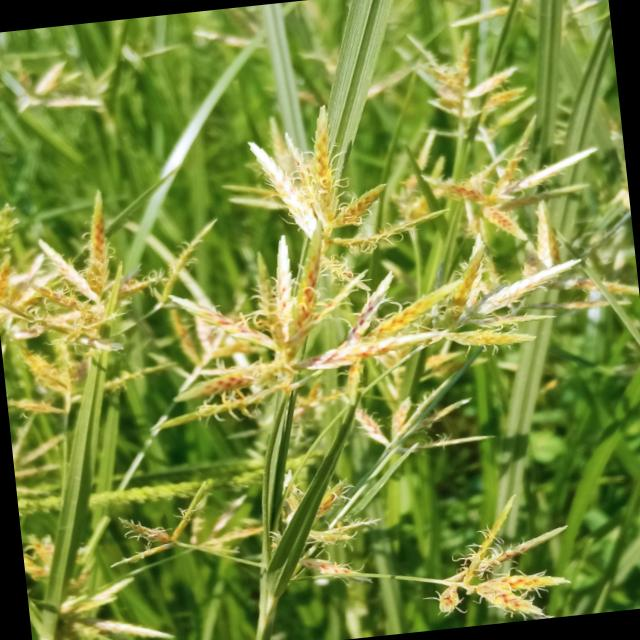cyperus: (161, 102, 528, 430), (104, 444, 388, 611), (0, 186, 188, 391), (399, 486, 576, 632), (406, 109, 598, 231), (386, 22, 528, 148), (0, 26, 108, 129)
